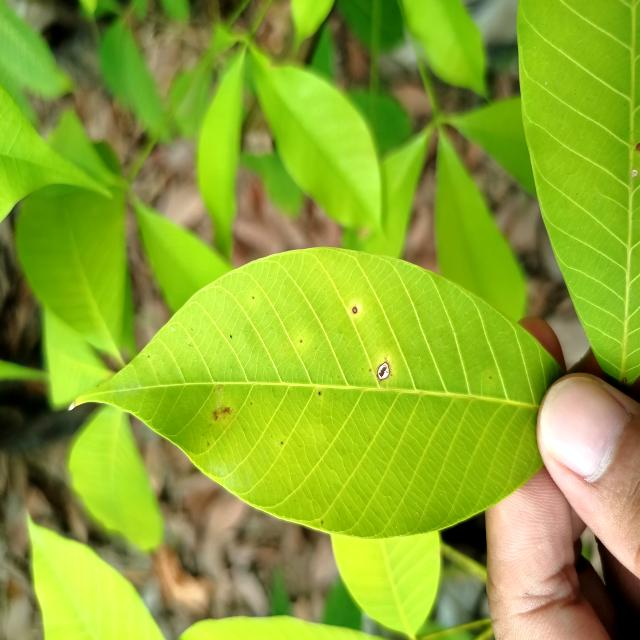Colletotrichum: (377, 362, 390, 381), (352, 306, 358, 314), (318, 391, 322, 395)
